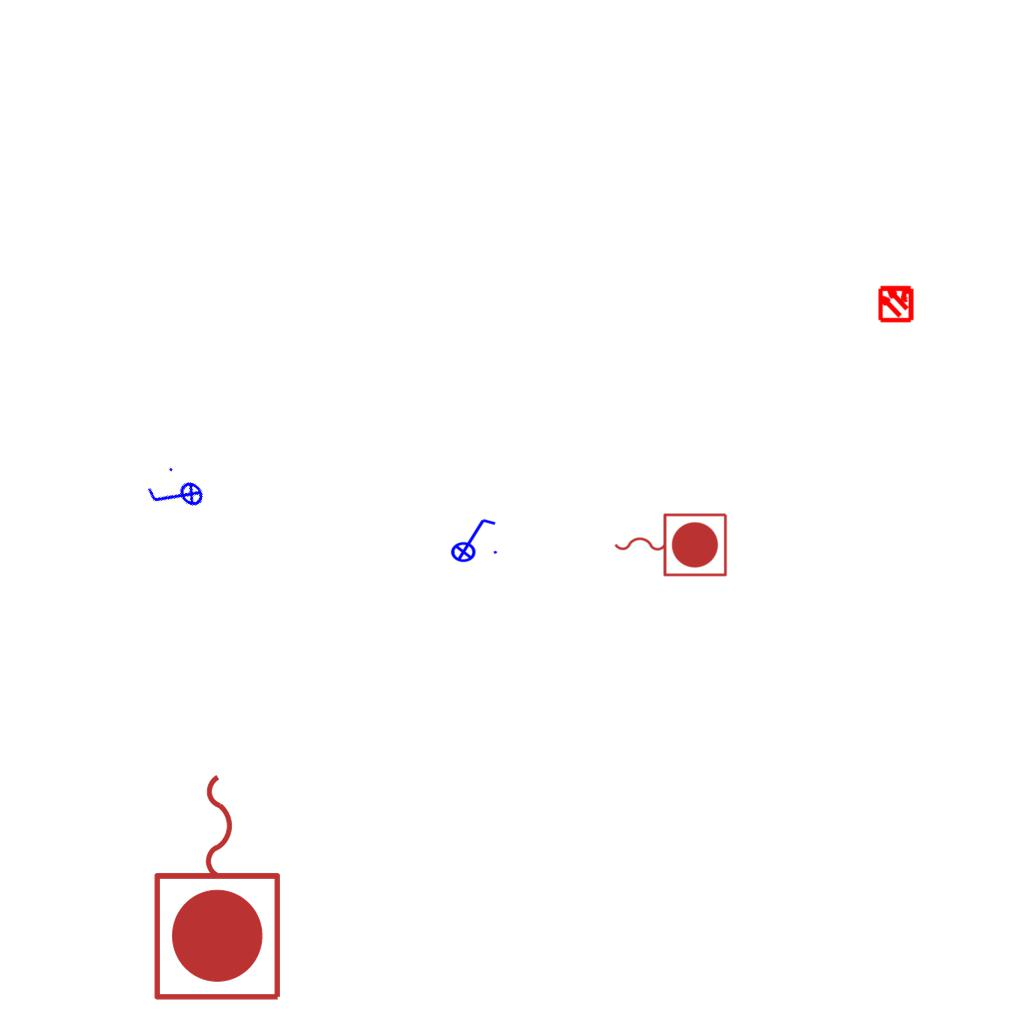Ausschalter_beleuchtet: (139, 459, 213, 533), (444, 515, 500, 563)
OT_Multisensormelder_(Kombination_RMO_WMD): (868, 275, 924, 331)
Zugtaster: (147, 764, 291, 1008), (609, 508, 731, 580)
